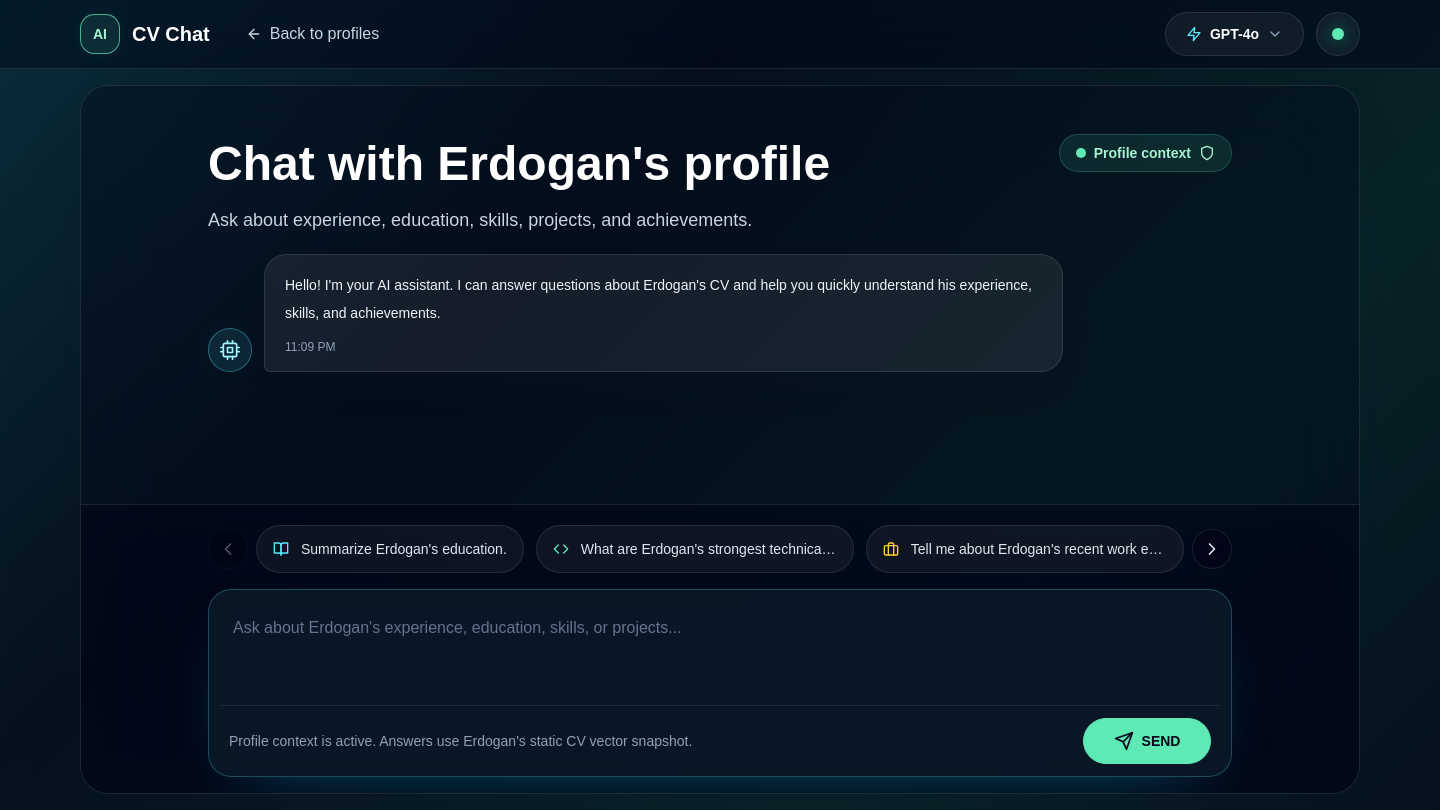
Test: ChatRoute › auto-sends a selected follow-up suggestion
Expected: the button "GPT-4o" is shown, top-left (1165, 12), bottom-right (1304, 56)
Type "Which tools did Erdogan use?" into the text box with placeholder "Ask about Erdogan's experience, education, skills, or projects..." at (720, 650), box top-left (221, 602), bottom-right (1219, 698)
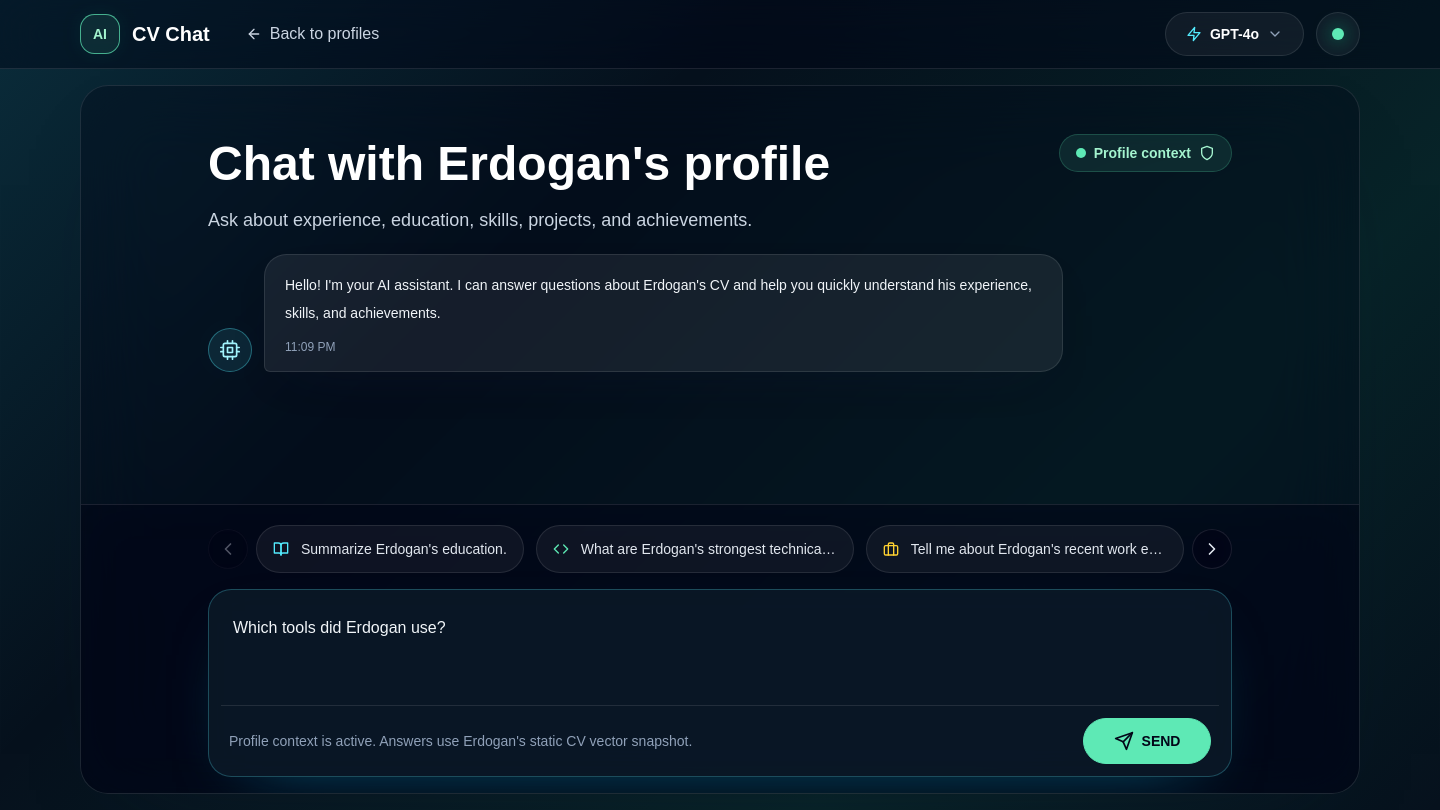
Click the button "Send" at (1147, 741), box top-left (1083, 718), bottom-right (1211, 764)
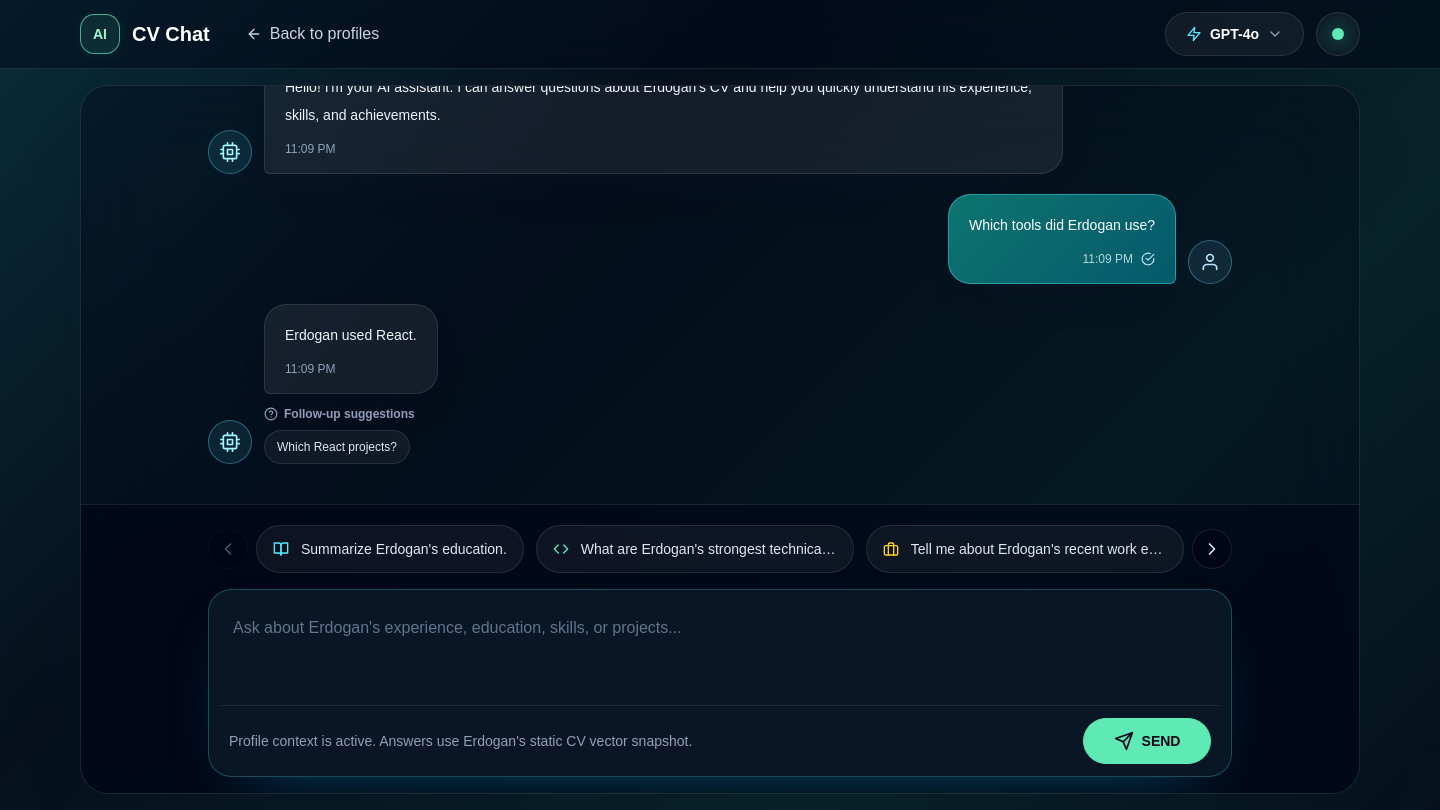
Now the button "Which React projects?" is enabled
Click the button "Which React projects?" at (337, 447), box top-left (264, 430), bottom-right (410, 464)
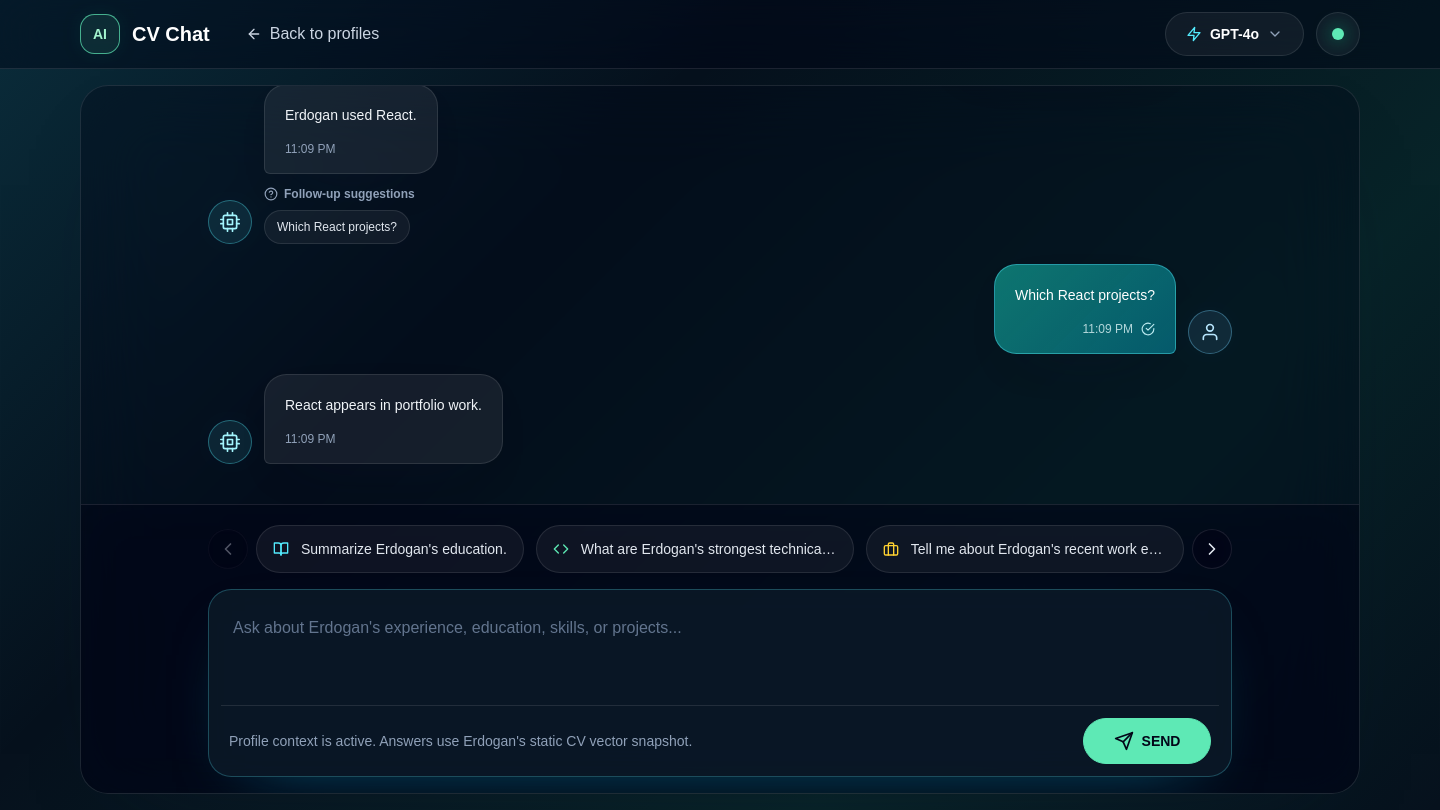
Now the text "React appears in portfolio work." is shown, box top-left (285, 397), bottom-right (482, 413)
